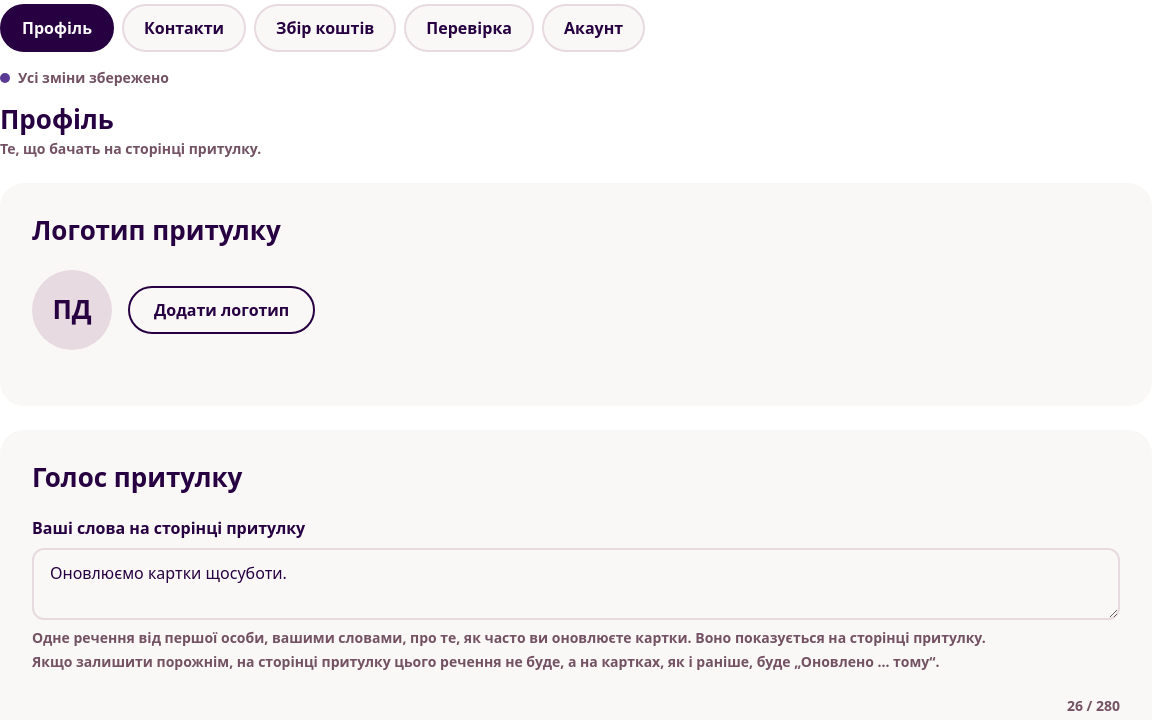
Test: contacts (answer 3, answer 4) › offers save and cancel only once something changed, and cancel puts the stored values back
Click the tab "Контакти" at (184, 28), box [122,4,246,52]
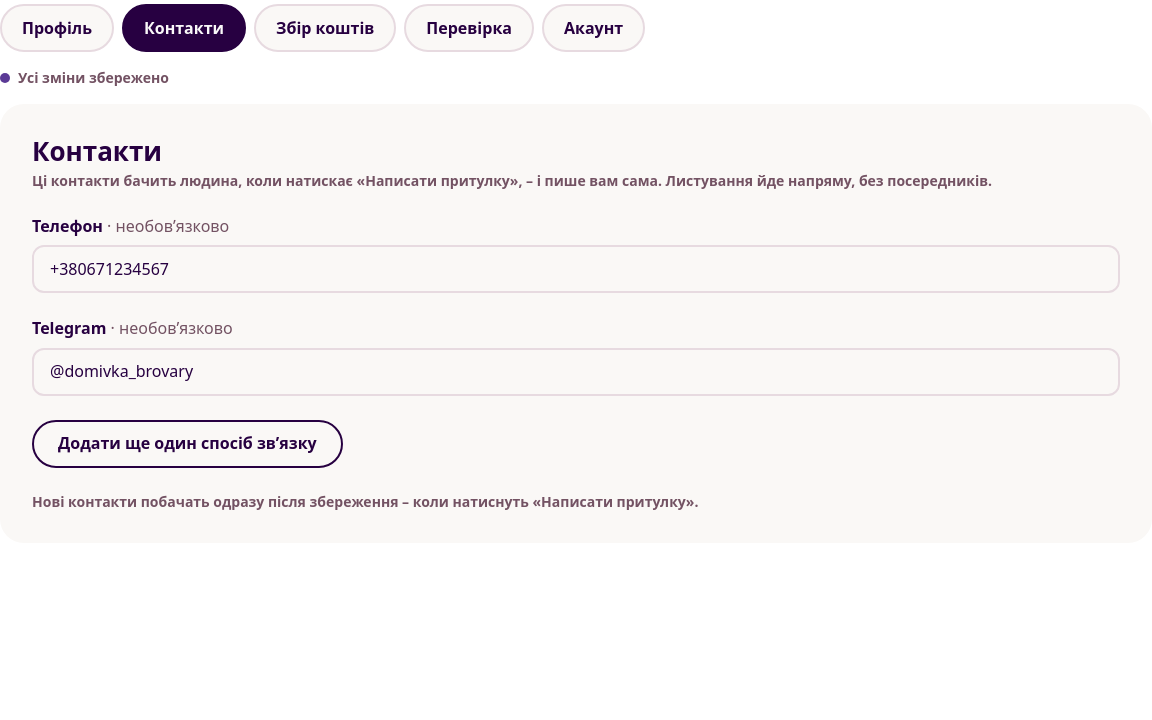
Expected: the button "Зберегти" is not shown
Replace the text in the field labelled "Телефон · необовʼязково" with "+380 50 111-22-33" at (576, 269), box [32,245,1120,293]
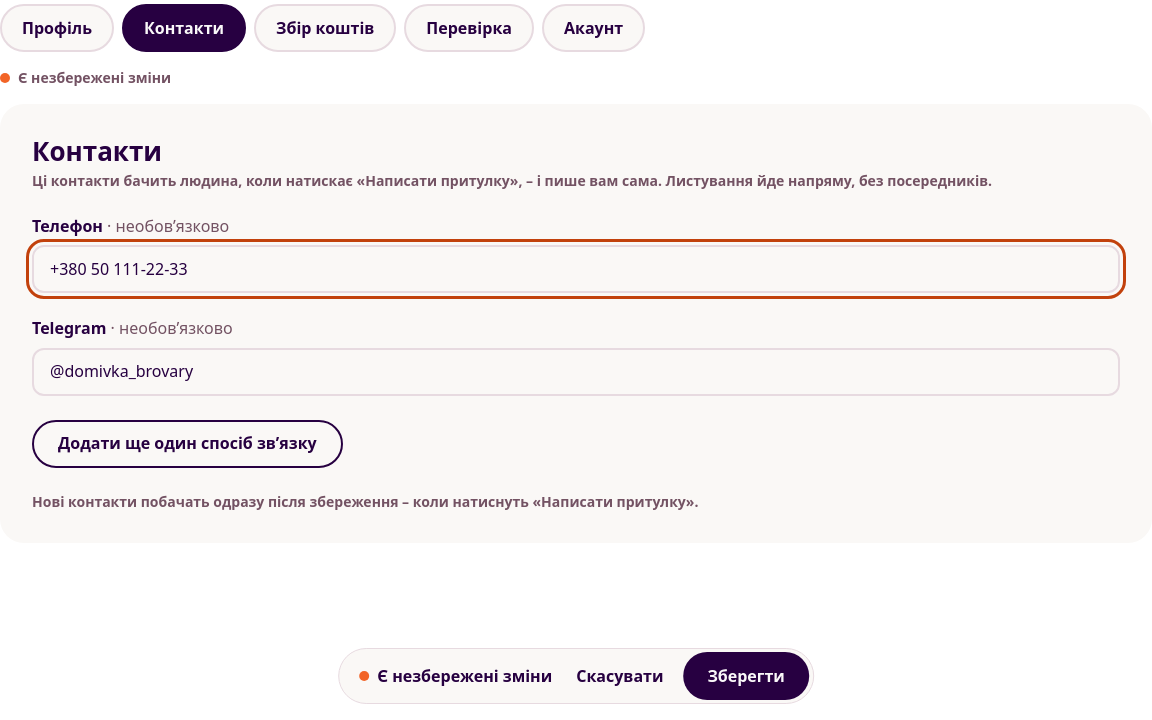
Expected: the button "Зберегти" is shown, [683,652,809,700]
Click the button "Скасувати" at (620, 676), box [564,652,675,700]
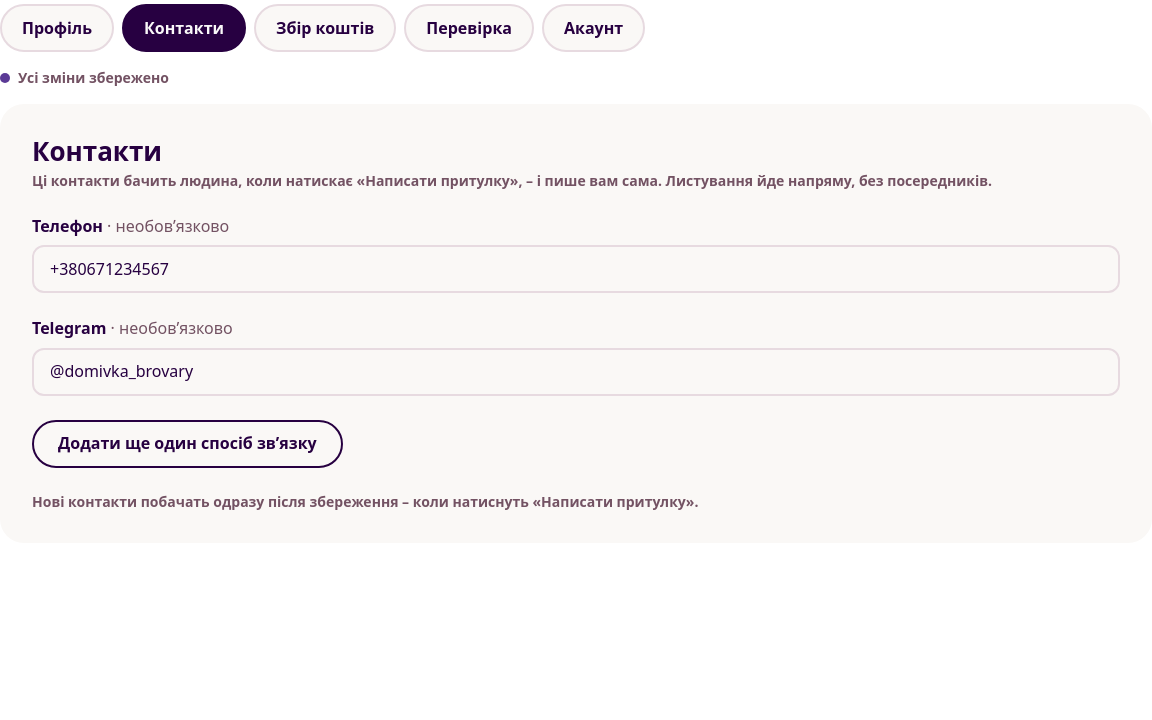
Expected: the field labelled "Телефон · необовʼязково" holds "+380671234567", [32,245,1120,293]
Expected: the button "Зберегти" is gone
